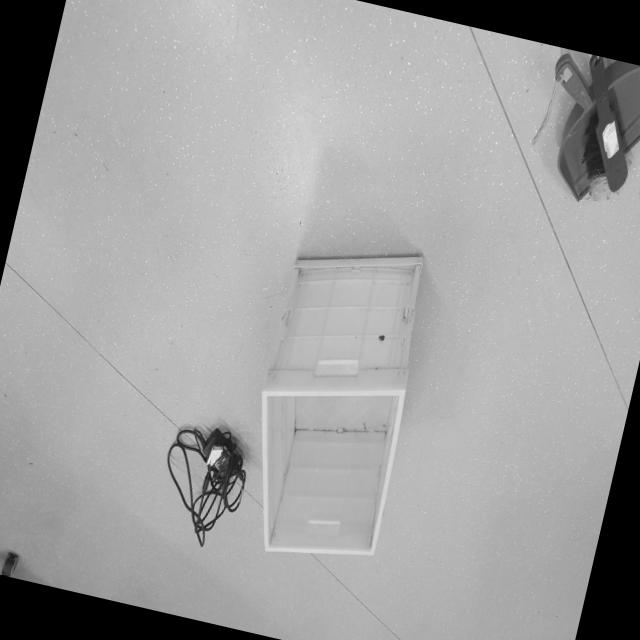box: (220, 191, 479, 592)
